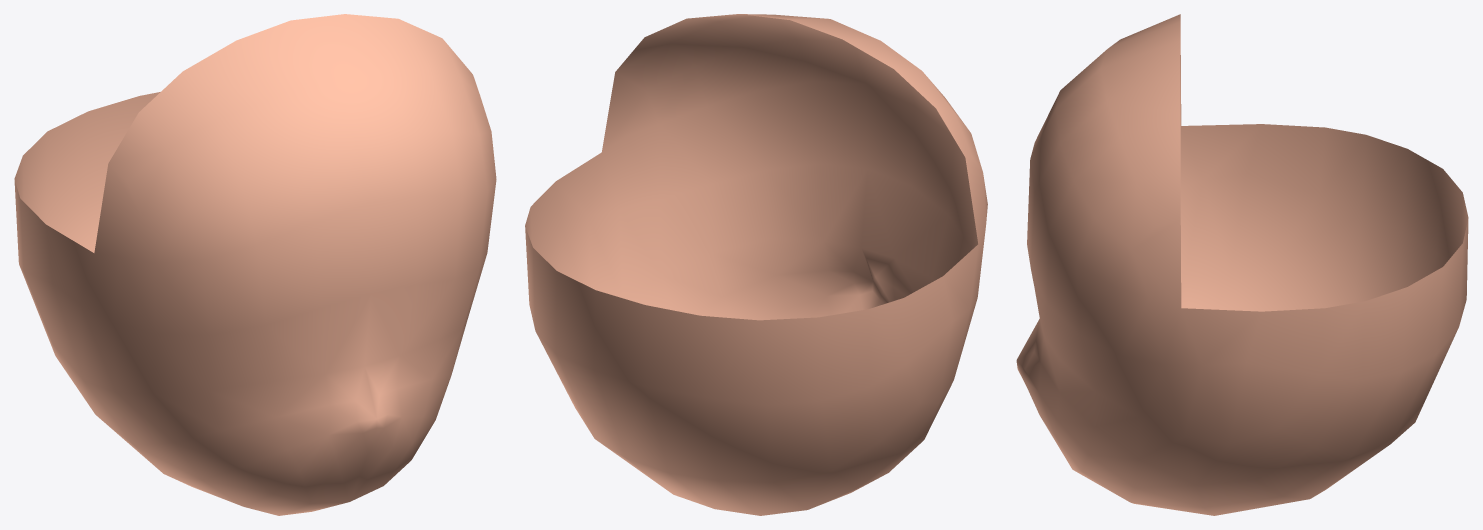
The picture shows the model from 3 angles, left to right: view 1: azimuth 30°, elevation 25°; view 2: azimuth 150°, elevation 25°; view 3: azimuth 270°, elevation 25°; orthographic projection. The views are drawn at different scales.
Visible parts, largest first — view 1: AF_M_Face_01; view 2: AF_M_Face_01; view 3: AF_M_Face_01.
Part boxes in pixels (bbox=[...]): AF_M_Face_01: bbox=[14, 14, 496, 515]; AF_M_Face_01: bbox=[525, 14, 987, 515]; AF_M_Face_01: bbox=[1016, 14, 1468, 515].
Bounding box in the file's own units: 655 × 731 × 661.
1 material, 1 textured.
